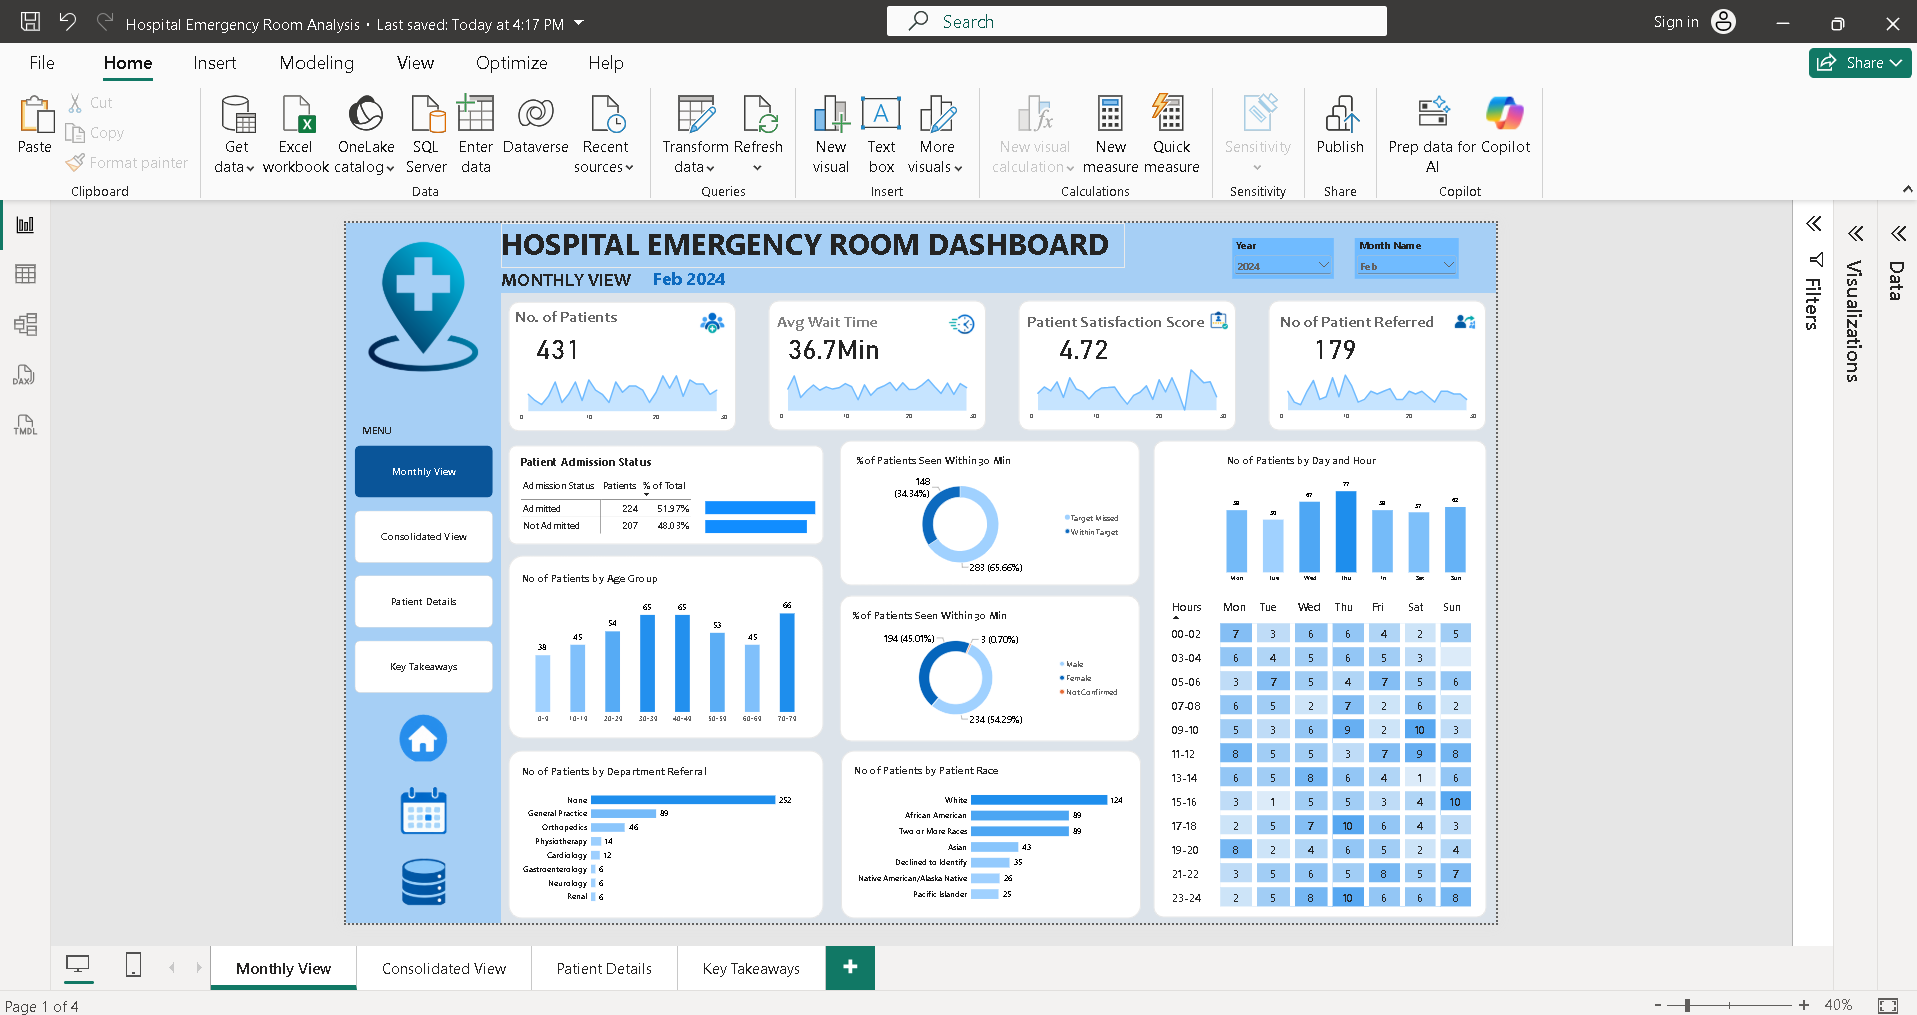

This screenshot's page, from the dashboard's own definition file:
{"tool":"powerbi","page":{"name":"Monthly View","canvas":[2300,1400],"ordinal":0},"visuals":[{"type":"shape","box":[0,0,310,1400],"z":0},{"type":"shape","box":[310,0,1990,140],"z":1000},{"type":"textbox","box":[310,0,1247.5,90],"z":2000},{"type":"textbox","box":[310,90,282.5,50],"z":3000},{"type":"shape","box":[323.8,156.2,455,259],"z":4000},{"type":"cardVisual","fields":{"Data":["Hospital ER_Data.No of Patients"]},"box":[337.1,217.1,174.3,68.6],"z":5000},{"type":"slicer","fields":{"Values":["Date Table.Year"]},"box":[1773.3,30,203.3,81.7],"z":6000},{"type":"shape","box":[843.9,155,435,260],"z":7000},{"type":"slicer","fields":{"Values":["Date Table.Month Name"]},"box":[2018.3,30,208.3,81.7],"z":8000},{"type":"textbox","box":[337.5,167.5,282.5,50],"z":9000},{"type":"areaChart","fields":{"Category":["Date Table.Date.Variation.Date Hierarchy.Day"],"Y":["Hospital ER_Data.No of Patients"]},"box":[324,270,456,146],"z":10000},{"type":"cardVisual","fields":{"Rows":["Date Table.Month & Year"]},"box":[602.5,97.5,167.5,105],"z":11000},{"type":"shape","box":[1344.4,155,435,260],"z":12000},{"type":"shape","box":[1845,155,435,260],"z":13000},{"type":"textbox","box":[1868,178,378,50],"z":14000},{"type":"textbox","box":[861.9,177.5,282.5,50],"z":15000},{"type":"textbox","box":[1362.5,177.5,357.5,50],"z":16000},{"type":"cardVisual","fields":{"Data":["Hospital ER_Data.Avg Wait Time"]},"box":[862,218,226,68],"z":17000},{"type":"areaChart","fields":{"Category":["Date Table.Date.Variation.Date Hierarchy.Day"],"Y":["Avg(Hospital ER_Data.Patient Waittime)"]},"box":[844,270,435,145],"z":18000},{"type":"cardVisual","fields":{"Data":["Hospital ER_Data.Satisfaction Score"]},"box":[1362,218,226,68],"z":19000},{"type":"areaChart","fields":{"Category":["Date Table.Date.Variation.Date Hierarchy.Day"],"Y":["Hospital ER_Data.Satisfaction Score"]},"box":[1344,270,435,145],"z":20000},{"type":"shape","box":[324,444,630,198],"z":21000},{"type":"cardVisual","fields":{"Data":["Hospital ER_Data.No of Patient Referred"]},"box":[1864,218,226,68],"z":22000},{"type":"areaChart","fields":{"Category":["Date Table.Date.Variation.Date Hierarchy.Day"],"Y":["Hospital ER_Data.No of Patient Referred"]},"box":[1846,270,435,145],"z":23000},{"type":"pivotTable","title":"Patient Admission Status","fields":{"Rows":["Hospital ER_Data.Admission Status"],"Values":["Hospital ER_Data.No of Patients1","Hospital ER_Data.No of Patients"]},"box":[336,448,606,190],"z":24000},{"type":"barChart","fields":{"Category":["Hospital ER_Data.Admission Status"],"Y":["Hospital ER_Data.No of Patients"]},"box":[702,516,252,142],"z":25000},{"type":"shape","box":[324,666,630,366],"z":26000},{"type":"columnChart","title":"No of Patients by Age Group","fields":{"Category":["Hospital ER_Data.Age Group"],"Y":["Hospital ER_Data.No of Patients"]},"box":[334,682,608,340],"z":27000},{"type":"shape","box":[324,1054,630,336],"z":28000},{"type":"clusteredBarChart","fields":{"Category":["Hospital ER_Data.Department Referral"],"Y":["Hospital ER_Data.No of Patients"]},"box":[334,1068,610,316],"z":29000},{"type":"shape","box":[988,436,600,290],"z":30000},{"type":"donutChart","title":"% of Patients Seen Within 30 Min","fields":{"Category":["Hospital ER_Data.Waittime Status"],"Y":["Hospital ER_Data.No of Patients"]},"box":[1004,444,566,272],"z":31000},{"type":"shape","box":[988,744,600,292],"z":32000},{"type":"donutChart","title":"% of Patients Seen Within 30 Min","fields":{"Category":["Hospital ER_Data.Patient Gender"],"Y":["Hospital ER_Data.No of Patients"]},"box":[998,756,572,266],"z":33000},{"type":"shape","box":[990,1054,600,336],"z":34000},{"type":"clusteredBarChart","fields":{"Category":["Hospital ER_Data.Patient Race"],"Y":["Hospital ER_Data.No of Patients"]},"box":[1000,1066,574,316],"z":35000},{"type":"shape","box":[1616,436,666,954],"z":36000},{"type":"pivotTable","fields":{"Columns":["Date Table.Day Name"],"Rows":["Hospital ER_Data.Waittime Interval"],"Values":["Hospital ER_Data.No of Patients"]},"box":[1630,732,638,650],"z":37000},{"type":"columnChart","title":"No of Patients by Day and Hour","fields":{"Category":["Date Table.Day Name"],"Y":["Hospital ER_Data.No of Patients"]},"box":[1745.7,444.3,512.9,294.3],"z":38000},{"type":"image","box":[17.5,37.5,275,260],"z":39000},{"type":"pageNavigator","box":[18,444,276,496],"z":40000},{"type":"textbox","box":[33.3,402.2,85.6,33.3],"z":41000},{"type":"image","box":[702.5,170,60,60],"z":41001},{"type":"image","box":[1200,175,62.5,55],"z":41002},{"type":"image","box":[1715,172.5,62.5,55],"z":41003},{"type":"image","box":[2207.5,172.5,62.5,55],"z":41004},{"type":"image","box":[90,967.5,130,125],"z":41005},{"type":"image","box":[90,1112.5,130,125],"z":41006},{"type":"image","box":[90,1255,130,125],"z":41007}]}

Visuals, with their boxes on the page's 2300x1400 design canvas (x1, y1, x2, y2). These are canvas units, not pixel positions in the 1917x1015 screenshot, which may show the page scaled, cropped or inside an application window:
shape: l=0, t=0, r=310, b=1400
shape: l=310, t=0, r=2300, b=140
textbox: l=310, t=0, r=1558, b=90
textbox: l=310, t=90, r=592, b=140
shape: l=324, t=156, r=779, b=415
cardVisual - Hospital ER_Data.No of Patients: l=337, t=217, r=511, b=286
slicer - Date Table.Year: l=1773, t=30, r=1977, b=112
shape: l=844, t=155, r=1279, b=415
slicer - Date Table.Month Name: l=2018, t=30, r=2227, b=112
textbox: l=338, t=168, r=620, b=218
areaChart - Date Table.Date.Variation.Date Hierarchy.Day x Hospital ER_Data.No of Patients: l=324, t=270, r=780, b=416
cardVisual - Date Table.Month & Year: l=602, t=98, r=770, b=202
shape: l=1344, t=155, r=1779, b=415
shape: l=1845, t=155, r=2280, b=415
textbox: l=1868, t=178, r=2246, b=228
textbox: l=862, t=178, r=1144, b=228
textbox: l=1362, t=178, r=1720, b=228
cardVisual - Hospital ER_Data.Avg Wait Time: l=862, t=218, r=1088, b=286
areaChart - Date Table.Date.Variation.Date Hierarchy.Day x Avg(Hospital ER_Data.Patient Waittime): l=844, t=270, r=1279, b=415
cardVisual - Hospital ER_Data.Satisfaction Score: l=1362, t=218, r=1588, b=286
areaChart - Date Table.Date.Variation.Date Hierarchy.Day x Hospital ER_Data.Satisfaction Score: l=1344, t=270, r=1779, b=415
shape: l=324, t=444, r=954, b=642
cardVisual - Hospital ER_Data.No of Patient Referred: l=1864, t=218, r=2090, b=286
areaChart - Date Table.Date.Variation.Date Hierarchy.Day x Hospital ER_Data.No of Patient Referred: l=1846, t=270, r=2281, b=415
"Patient Admission Status" pivotTable: l=336, t=448, r=942, b=638
barChart - Hospital ER_Data.Admission Status x Hospital ER_Data.No of Patients: l=702, t=516, r=954, b=658
shape: l=324, t=666, r=954, b=1032
"No of Patients by Age Group" columnChart: l=334, t=682, r=942, b=1022
shape: l=324, t=1054, r=954, b=1390
clusteredBarChart - Hospital ER_Data.Department Referral x Hospital ER_Data.No of Patients: l=334, t=1068, r=944, b=1384
shape: l=988, t=436, r=1588, b=726
"% of Patients Seen Within 30 Min" donutChart: l=1004, t=444, r=1570, b=716
shape: l=988, t=744, r=1588, b=1036
"% of Patients Seen Within 30 Min" donutChart: l=998, t=756, r=1570, b=1022
shape: l=990, t=1054, r=1590, b=1390
clusteredBarChart - Hospital ER_Data.Patient Race x Hospital ER_Data.No of Patients: l=1000, t=1066, r=1574, b=1382
shape: l=1616, t=436, r=2282, b=1390
pivotTable - Date Table.Day Name x Hospital ER_Data.Waittime Interval: l=1630, t=732, r=2268, b=1382
"No of Patients by Day and Hour" columnChart: l=1746, t=444, r=2259, b=739
image: l=18, t=38, r=292, b=298
pageNavigator: l=18, t=444, r=294, b=940
textbox: l=33, t=402, r=119, b=436
image: l=702, t=170, r=762, b=230
image: l=1200, t=175, r=1262, b=230
image: l=1715, t=172, r=1778, b=228
image: l=2208, t=172, r=2270, b=228
image: l=90, t=968, r=220, b=1092
image: l=90, t=1112, r=220, b=1238
image: l=90, t=1255, r=220, b=1380
